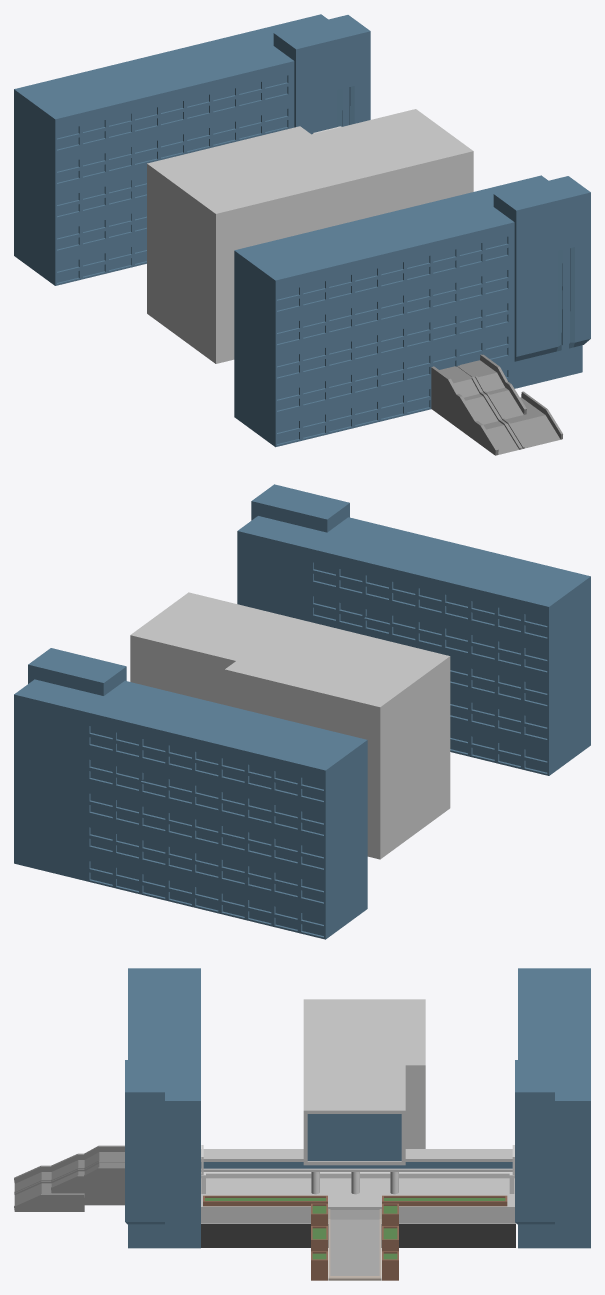
Rendered from buisiness.fbx.
3 views of the same model, one above another, from view 1: azimuth 30°, elevation 25°; view 2: azimuth 150°, elevation 25°; view 3: azimuth 270°, elevation 25° (orthographic). The views are drawn at different scales.
Parts seen in each view (by area): view 1: Cube.010, Cube.012, Cube.011, Cube.013; view 2: Cube.012, Cube.010, Cube.011; view 3: Cube.010, Cube.012, Cube.011, Cube, Cube.013, Cube.014, Cube.016, Cube.015, Cube.018, Cube.017, Cube.020, Cube.019.
Part boxes in pixels (left/top/right/bottom): Cube.010: left=234, top=175, right=590, bottom=447; Cube.012: left=14, top=14, right=370, bottom=285; Cube.011: left=147, top=109, right=473, bottom=363; Cube.013: left=431, top=354, right=562, bottom=455; Cube.012: left=14, top=648, right=367, bottom=939; Cube.010: left=237, top=484, right=590, bottom=775; Cube.011: left=130, top=592, right=450, bottom=859; Cube.010: left=125, top=968, right=200, bottom=1248; Cube.012: left=515, top=968, right=590, bottom=1248; Cube.011: left=303, top=999, right=425, bottom=1165; Cube: left=201, top=1178, right=515, bottom=1247; Cube.013: left=14, top=1145, right=124, bottom=1211; Cube.014: left=201, top=1149, right=512, bottom=1171; Cube.016: left=328, top=1209, right=381, bottom=1280; Cube.015: left=201, top=1172, right=514, bottom=1178; Cube.018: left=382, top=1195, right=507, bottom=1206; Cube.017: left=203, top=1195, right=327, bottom=1206; Cube.020: left=311, top=1203, right=327, bottom=1280; Cube.019: left=382, top=1203, right=398, bottom=1280.
Bounding box in the file's own units: 16879 × 7559 × 24866.
